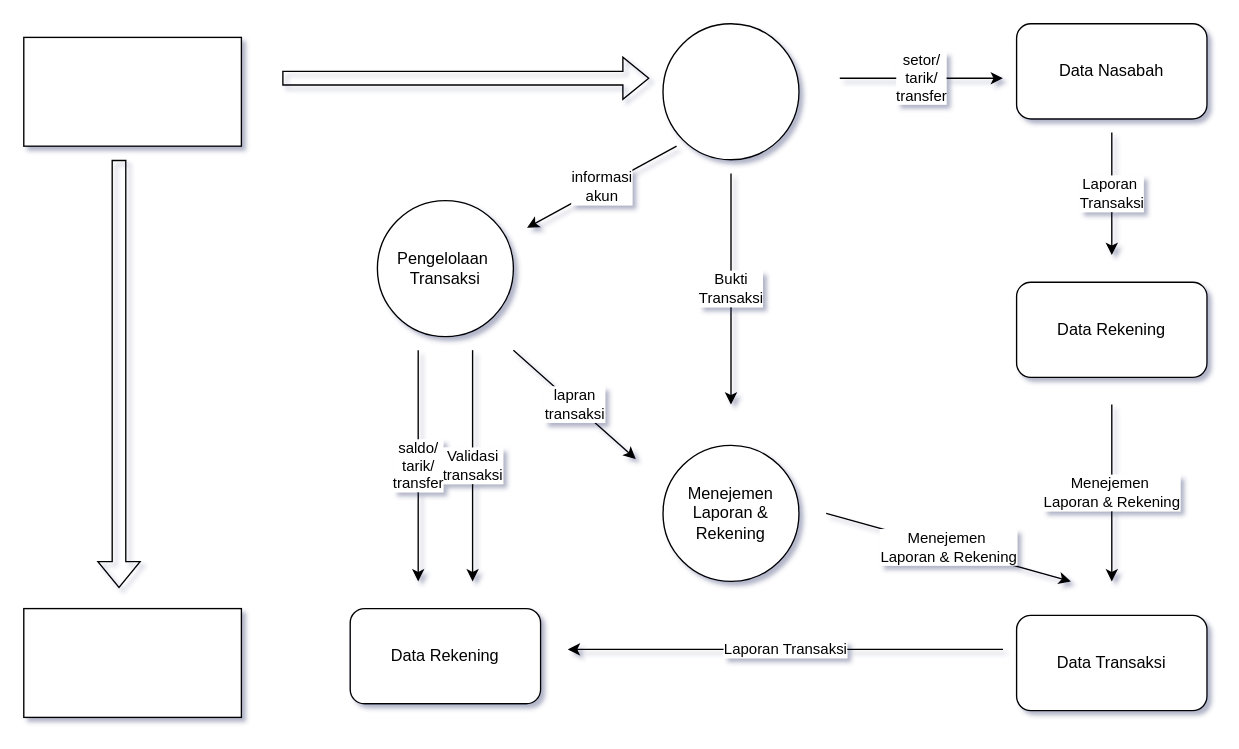
Some shapes in this 1239 by 749 pixel diagram are drawn without their labels. Each missing label, with the centre of its shape:
Nasabah: the point at 131,91
Pengelolaan Data Nasabah: the point at 730,91
Petugas Bank: the point at 131,662
